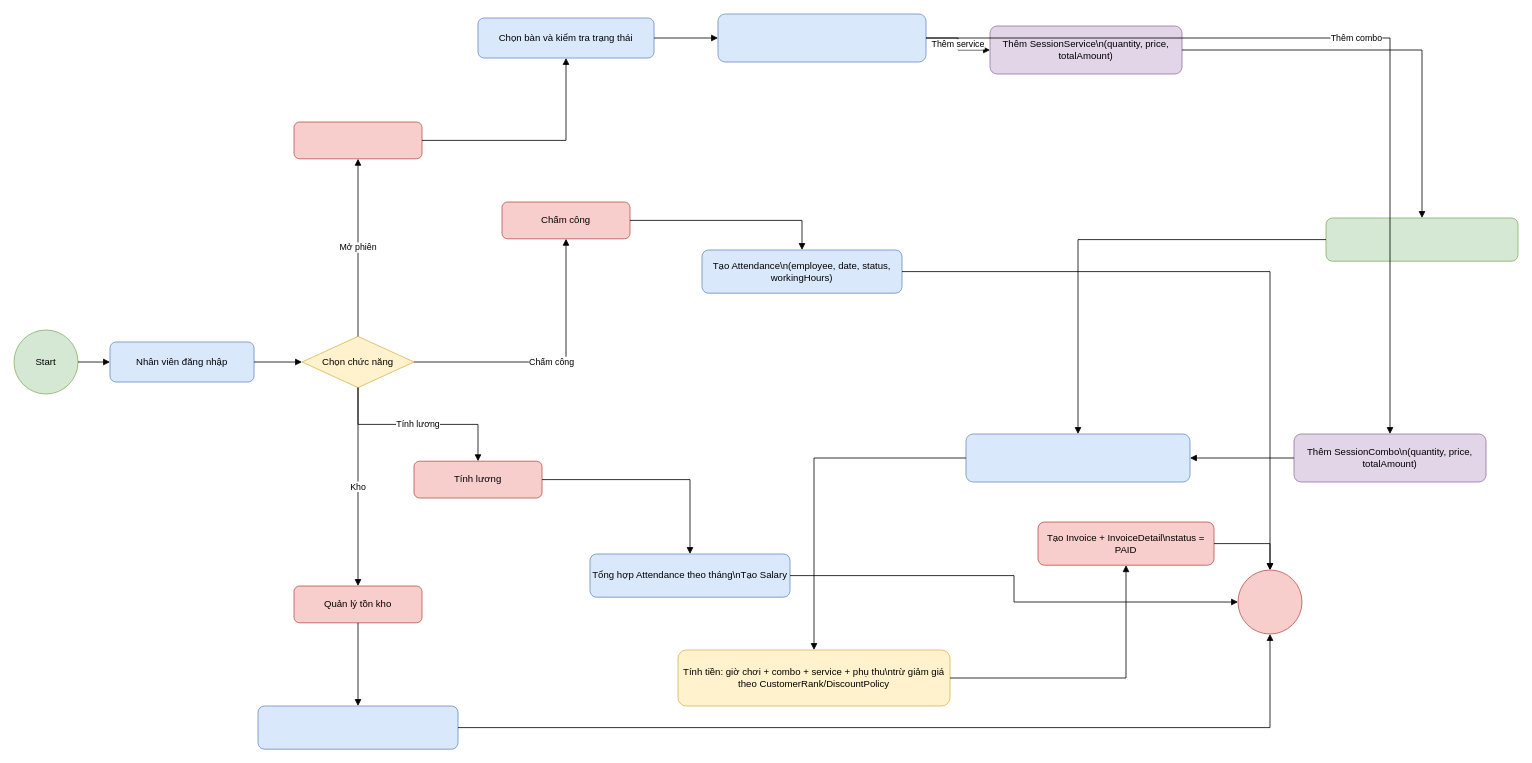
Some shapes in this 1532 by 763 pixel diagram are drawn without their labels. The box of each missing label's shape, as (x1, y1, x2, y2) in pixels:
Cập nhật Inventory + InventoryMovement: (1325, 217, 1518, 261)
End: (1237, 569, 1302, 634)
Kết thúc phiên: endTime, durationHours\nTable status = AVAILABLE: (965, 433, 1190, 482)
Mở phiên chơi: (293, 121, 422, 159)
Nhập/Xuất kho\nCập nhật InventoryMovement: (257, 705, 458, 749)
Tạo BilliardSession\n(startTime, table, customer, branch): (717, 13, 926, 62)
